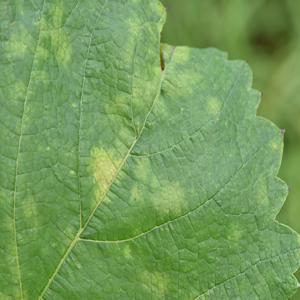Folha: (0, 0, 299, 299)
Fungo: (113, 0, 192, 138), (130, 155, 183, 218), (37, 9, 73, 68), (89, 144, 118, 196), (140, 264, 171, 300), (0, 30, 33, 55), (20, 193, 38, 219), (205, 95, 224, 117), (124, 242, 131, 260)
